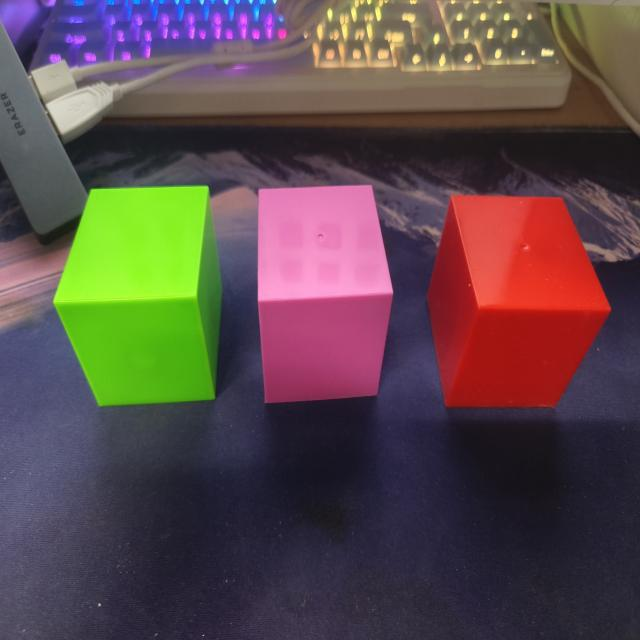green: (53, 184, 221, 409)
pink: (256, 185, 394, 407)
red: (427, 196, 610, 411)
